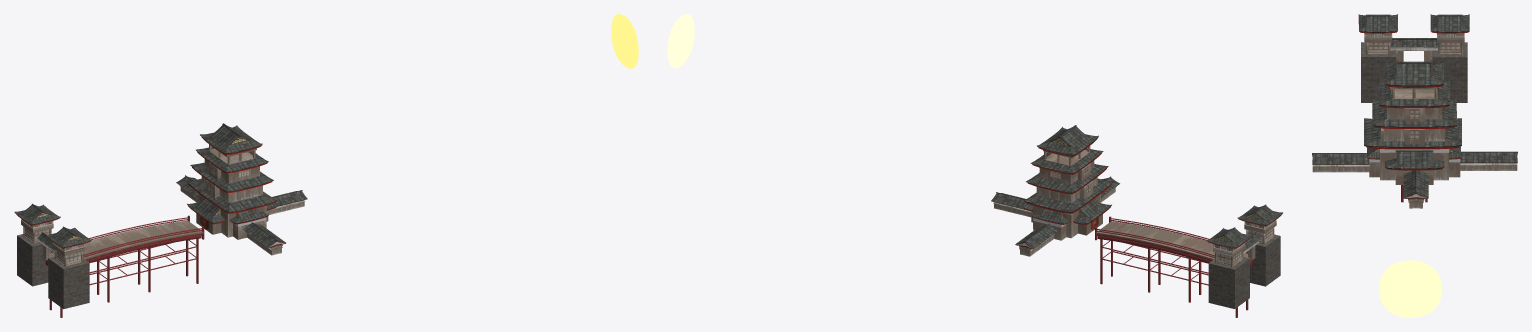
Rendered from chinese_fantasy06.glb.
3 views of the same model, side by side, from view 1: azimuth 30°, elevation 25°; view 2: azimuth 150°, elevation 25°; view 3: azimuth 270°, elevation 25° (orthographic). The views are drawn at different scales.
Parts seen in each view (by area): view 1: Object_13, Object_5, Object_17, Object_4, Object_34, Object_24, Object_9; view 2: Object_13, Object_5, Object_17, Object_4, Object_34, Object_24, Object_9; view 3: Object_13, Object_5, Object_34, Object_17, Object_24, Object_9, Object_62, Object_22.
Boxes of the visible parts, left/top/right/bottom form: Object_13: left=15, top=123, right=307, bottom=250; Object_5: left=21, top=141, right=305, bottom=266; Object_17: left=17, top=234, right=89, bottom=309; Object_4: left=45, top=215, right=204, bottom=317; Object_34: left=611, top=14, right=638, bottom=68; Object_24: left=14, top=135, right=277, bottom=248; Object_9: left=22, top=164, right=214, bottom=262; Object_13: left=991, top=125, right=1282, bottom=251; Object_5: left=993, top=143, right=1276, bottom=267; Object_17: left=1208, top=234, right=1280, bottom=308; Object_4: left=1095, top=216, right=1252, bottom=317; Object_34: left=667, top=14, right=694, bottom=68; Object_24: left=1022, top=136, right=1282, bottom=248; Object_9: left=1084, top=166, right=1275, bottom=262; Object_13: left=1312, top=14, right=1517, bottom=197; Object_5: left=1312, top=33, right=1517, bottom=208; Object_34: left=1378, top=260, right=1442, bottom=317; Object_17: left=1361, top=42, right=1467, bottom=102; Object_24: left=1358, top=15, right=1469, bottom=170; Object_9: left=1366, top=33, right=1463, bottom=139; Object_62: left=1369, top=107, right=1460, bottom=162; Object_22: left=1312, top=15, right=1517, bottom=199.
Size of the model in its own units: 204 by 53.45 by 54.1.
12 materials, 11 textured.
